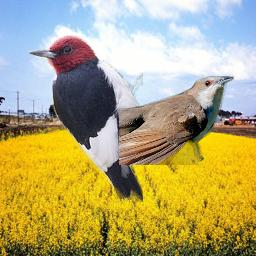Cuckoo: (119, 76, 234, 165)
Woodpecker: (28, 35, 143, 202)
